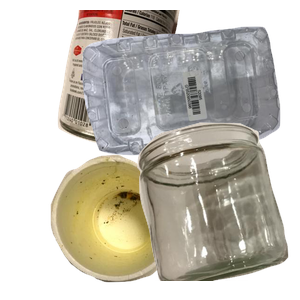glass: (135, 120, 300, 300)
metal: (55, 10, 227, 149)
plastic: (80, 24, 300, 172)
trash: (48, 152, 219, 300)
